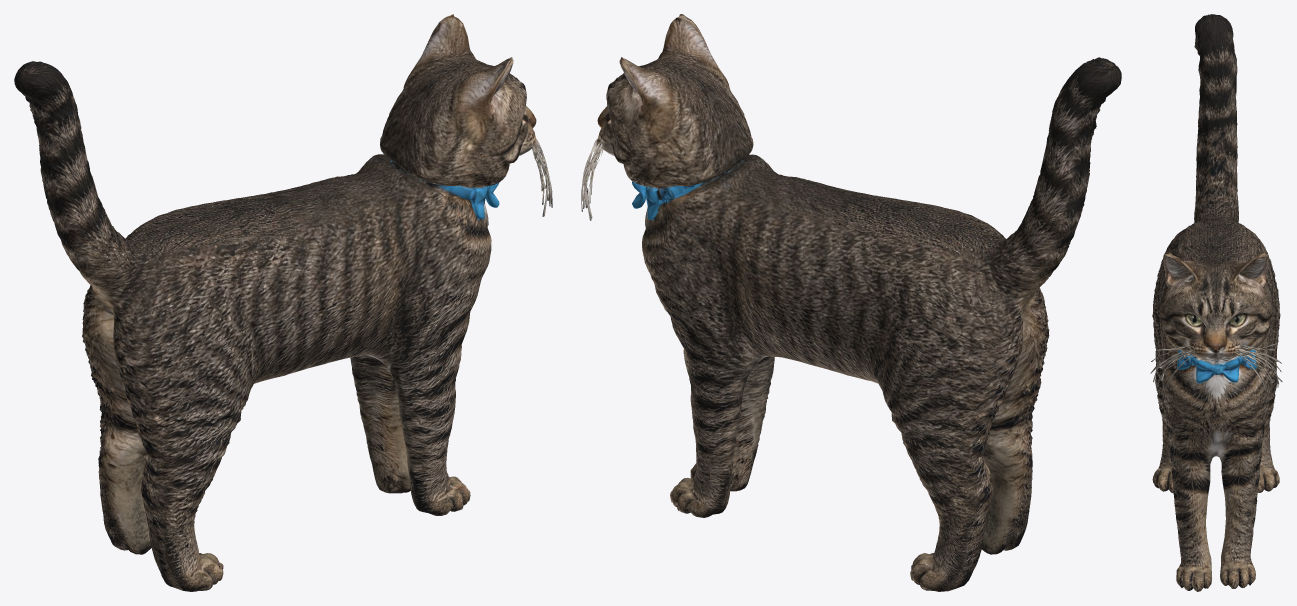
The model's file is KING.glb.
The picture shows the model from 3 angles, left to right: view 1: azimuth 30°, elevation 25°; view 2: azimuth 150°, elevation 25°; view 3: azimuth 270°, elevation 25°; orthographic projection. The views are drawn at different scales.
Visible parts, largest first — view 1: tripo_node_4eae2a22-ae91-48b8-aa05-fd0d7338a084; view 2: tripo_node_4eae2a22-ae91-48b8-aa05-fd0d7338a084; view 3: tripo_node_4eae2a22-ae91-48b8-aa05-fd0d7338a084.
Boxes of the visible parts, bbox=[...] form: tripo_node_4eae2a22-ae91-48b8-aa05-fd0d7338a084: bbox=[14, 14, 552, 591]; tripo_node_4eae2a22-ae91-48b8-aa05-fd0d7338a084: bbox=[581, 14, 1121, 591]; tripo_node_4eae2a22-ae91-48b8-aa05-fd0d7338a084: bbox=[1150, 14, 1282, 591].
Bounding box in the file's own units: 1.01 × 0.9996 × 0.2848.
Materials: 1 (1 with a texture image).
